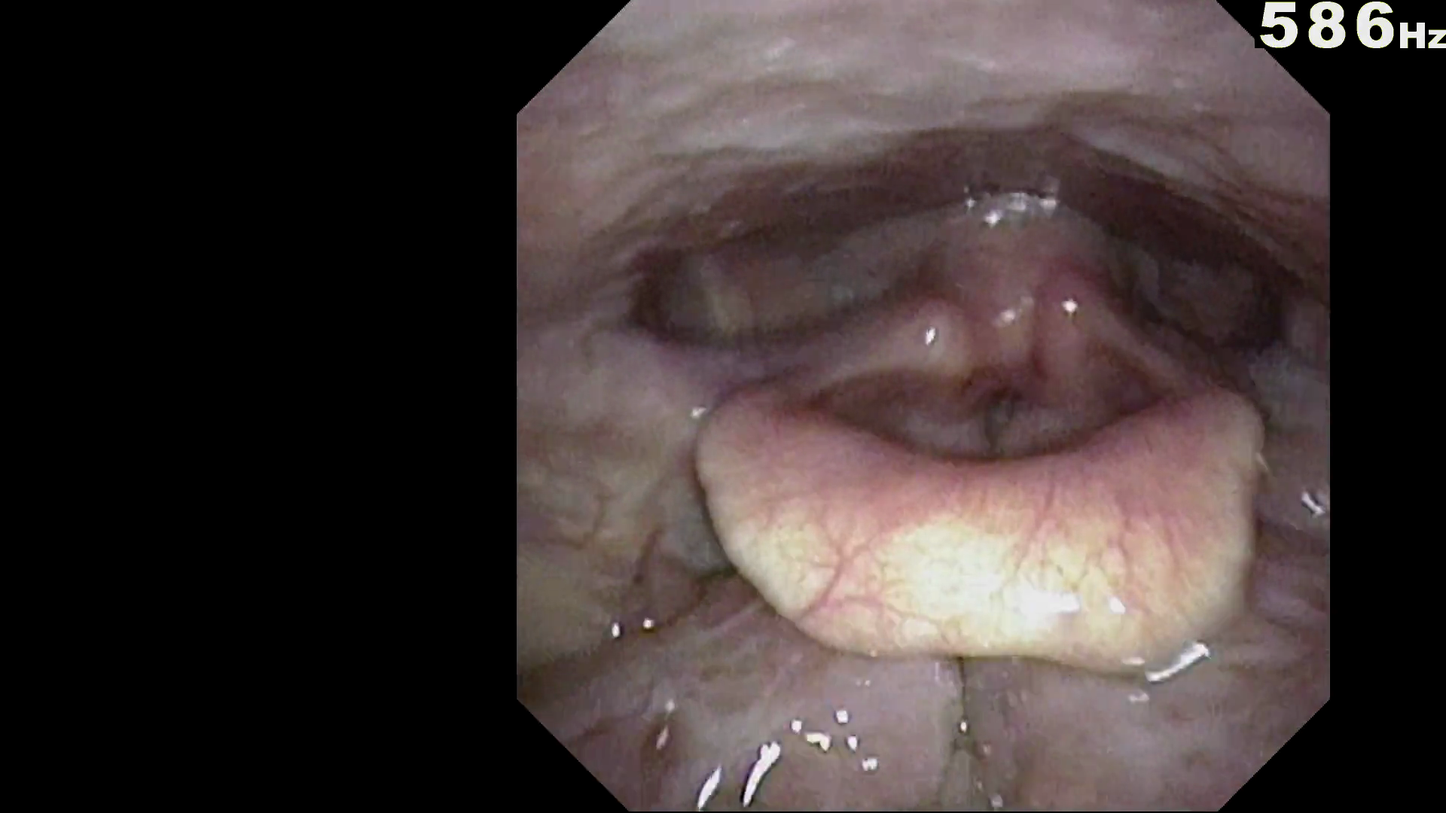epiglottis: (683, 327, 1271, 537)
